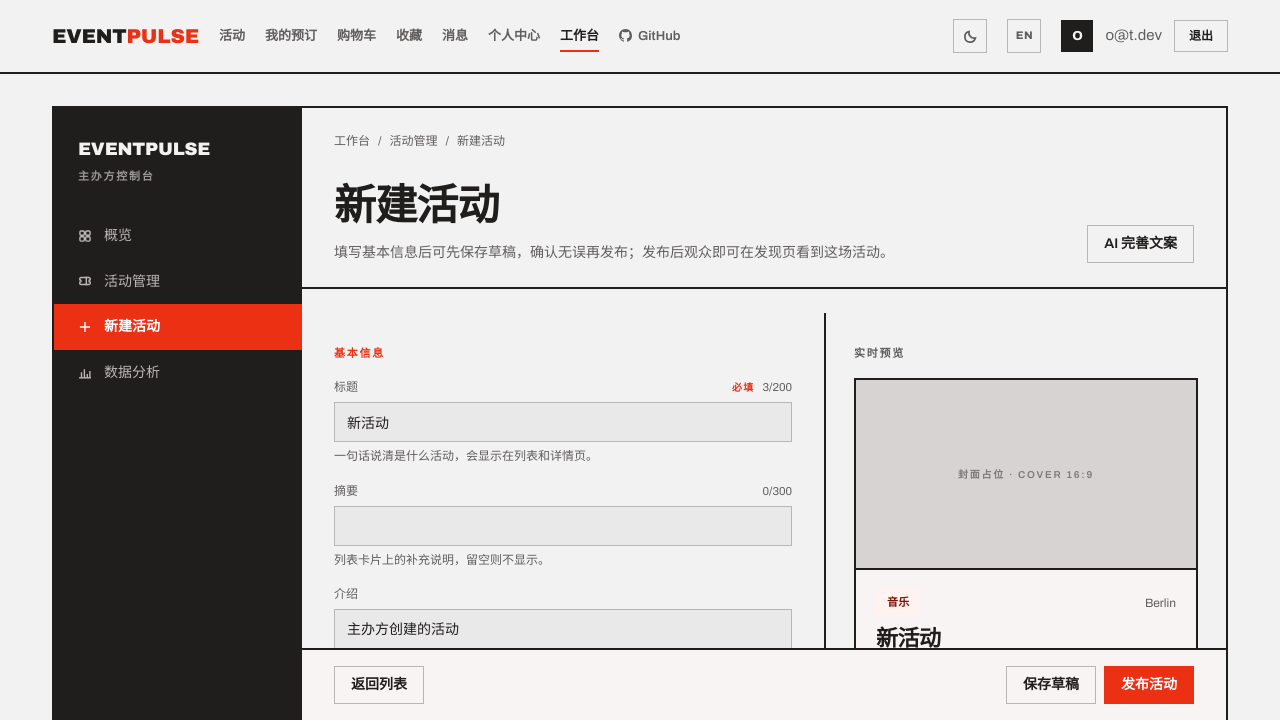
Test: organiser event form › blocks submission and lists every invalid field
Expected: the heading "新建活动" is shown, [334, 183, 499, 229]
Clear the field labelled "标题" at (563, 422), box [334, 402, 792, 442]
(page scrolled)
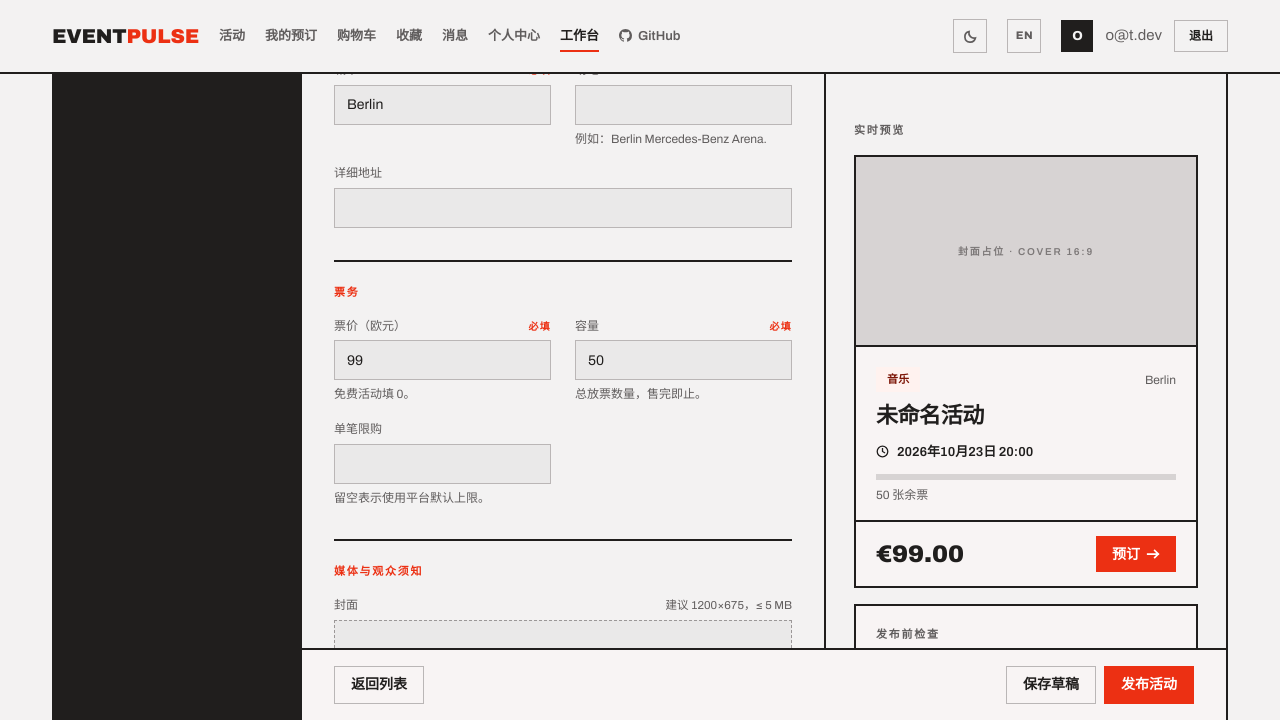
Replace the text in the number field labelled "容量" with "0" at (684, 360), box [575, 340, 792, 380]
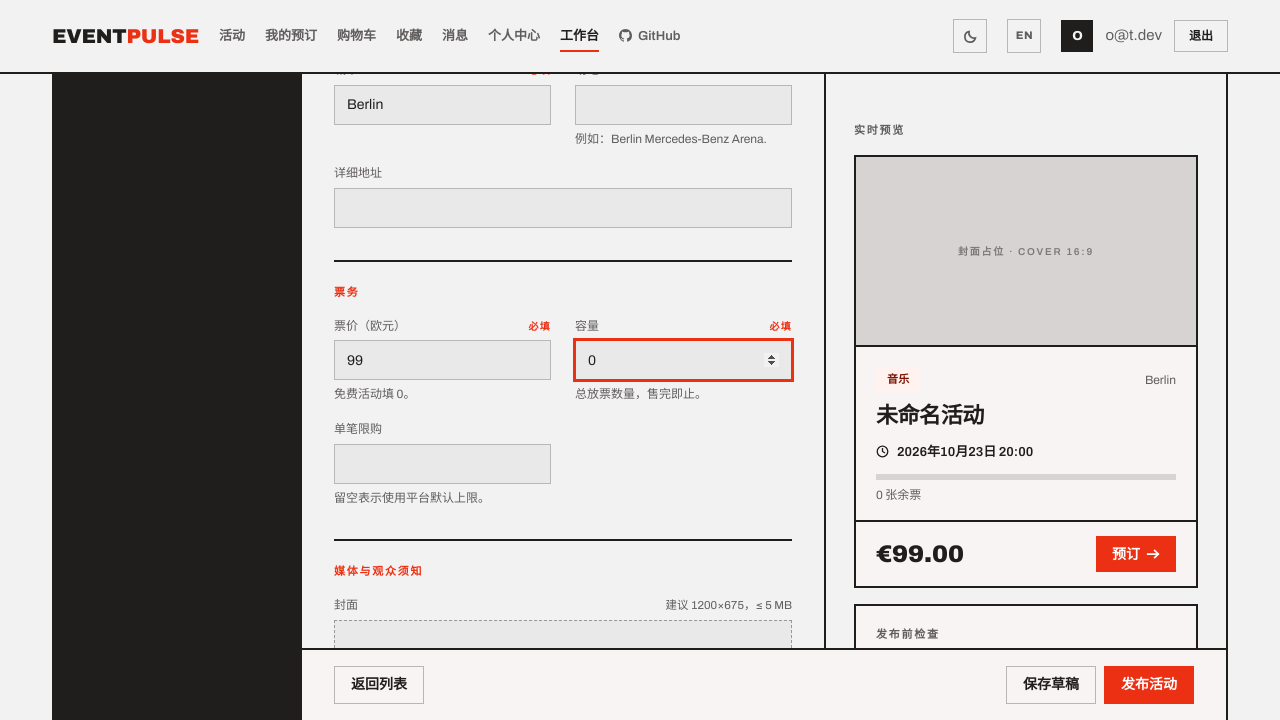
Click the button "发布活动" at (1149, 685), box [1104, 666, 1194, 704]
(page scrolled)
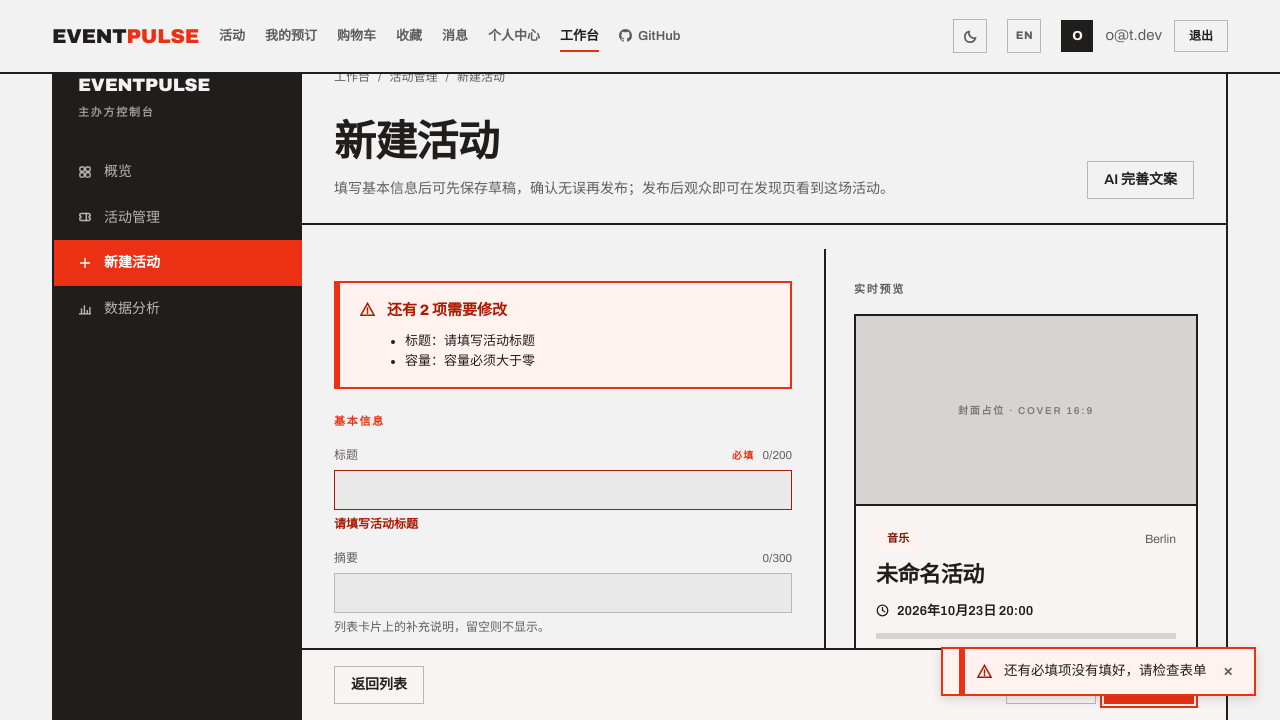
Expected: the text "还有 2 项需要修改" is shown, [387, 302, 507, 318]
Expected: the list item "标题：请填写活动标题" is shown, [405, 334, 535, 348]
Expected: the list item "容量：容量必须大于零" is shown, [405, 354, 535, 368]
